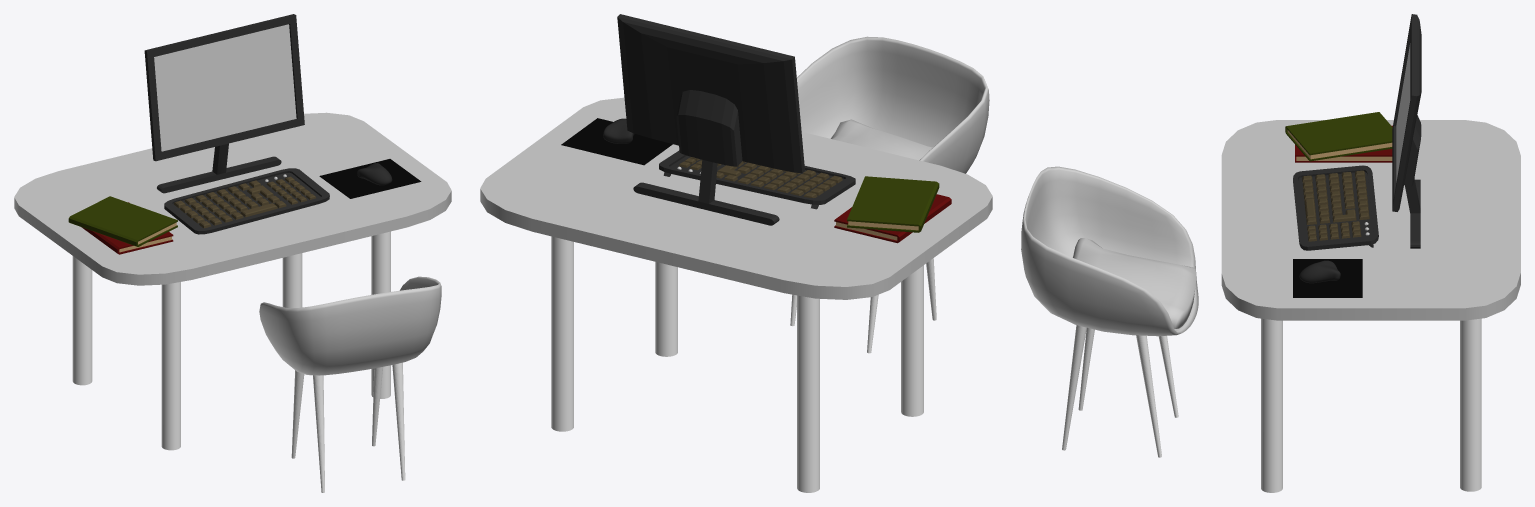
File: study-desk.obj
3 views of the same model, side by side, from view 1: azimuth 30°, elevation 25°; view 2: azimuth 150°, elevation 25°; view 3: azimuth 270°, elevation 25° (orthographic). The views are drawn at different scales.
Parts seen in each view (by area): view 1: masa_masa_Cylinder, monitör_monitör_Cube.001, sandalye_sandalye_Cylinder.001, klavye_Cube.002, kitap_kitap_1_Cube.003, mousepad_Plane.002, mouse_mouse_Cube.009; view 2: masa_masa_Cylinder, monitör_monitör_Cube.001, sandalye_sandalye_Cylinder.001, kitap_kitap_1_Cube.003, klavye_Cube.002, mousepad_Plane.002, mouse_mouse_Cube.009; view 3: masa_masa_Cylinder, sandalye_sandalye_Cylinder.001, klavye_Cube.002, monitör_monitör_Cube.001, kitap_kitap_1_Cube.003, mousepad_Plane.002, mouse_mouse_Cube.009.
Boxes of the visible parts, <box> form: masa_masa_Cylinder: <box>14,112,451,450</box>; monitör_monitör_Cube.001: <box>144,14,304,193</box>; sandalye_sandalye_Cylinder.001: <box>259,276,441,492</box>; klavye_Cube.002: <box>164,168,329,234</box>; kitap_kitap_1_Cube.003: <box>68,196,177,254</box>; mousepad_Plane.002: <box>319,159,421,198</box>; mouse_mouse_Cube.009: <box>357,163,392,185</box>; masa_masa_Cylinder: <box>480,97,992,492</box>; monitör_monitör_Cube.001: <box>617,14,804,225</box>; sandalye_sandalye_Cylinder.001: <box>790,36,989,353</box>; kitap_kitap_1_Cube.003: <box>834,176,951,243</box>; klavye_Cube.002: <box>659,150,855,209</box>; mousepad_Plane.002: <box>561,118,672,165</box>; mouse_mouse_Cube.009: <box>603,118,634,143</box>; masa_masa_Cylinder: <box>1221,120,1520,492</box>; sandalye_sandalye_Cylinder.001: <box>1021,166,1198,457</box>; klavye_Cube.002: <box>1293,165,1378,250</box>; monitör_monitör_Cube.001: <box>1392,14,1421,248</box>; kitap_kitap_1_Cube.003: <box>1285,112,1392,162</box>; mousepad_Plane.002: <box>1293,259,1362,297</box>; mouse_mouse_Cube.009: <box>1299,260,1340,283</box>.
Bounding box in the file's own units: 4.98 × 4.69 × 5.58.
